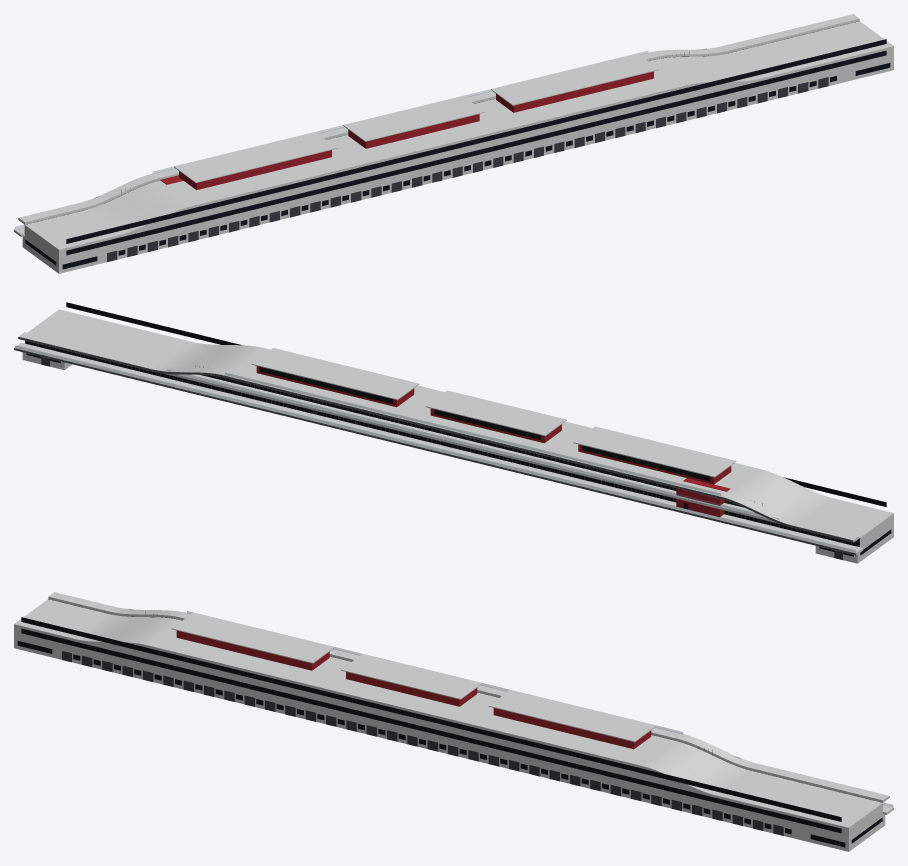
The model's file is hun_pit_upper_v2.glb.
The picture shows the model from 3 angles, top to bottom: view 1: azimuth 30°, elevation 25°; view 2: azimuth 150°, elevation 25°; view 3: azimuth 330°, elevation 25°; orthographic projection.
Visible parts, largest first — view 1: hungaroring-pit-building; view 2: hungaroring-pit-building; view 3: hungaroring-pit-building.
Part boxes in pixels (x1,y1,x2,y2): hungaroring-pit-building: [14, 14, 893, 273]; hungaroring-pit-building: [14, 302, 893, 563]; hungaroring-pit-building: [14, 592, 893, 851].
Bounding box in the file's own units: 348 × 18.95 × 29.72.
